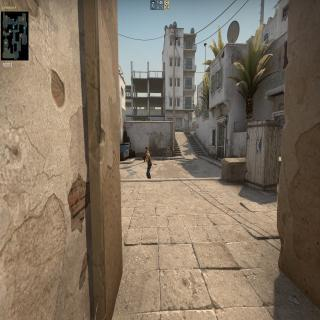T-Head: (144, 146, 148, 154)
